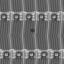dust: (29, 28, 35, 32)
